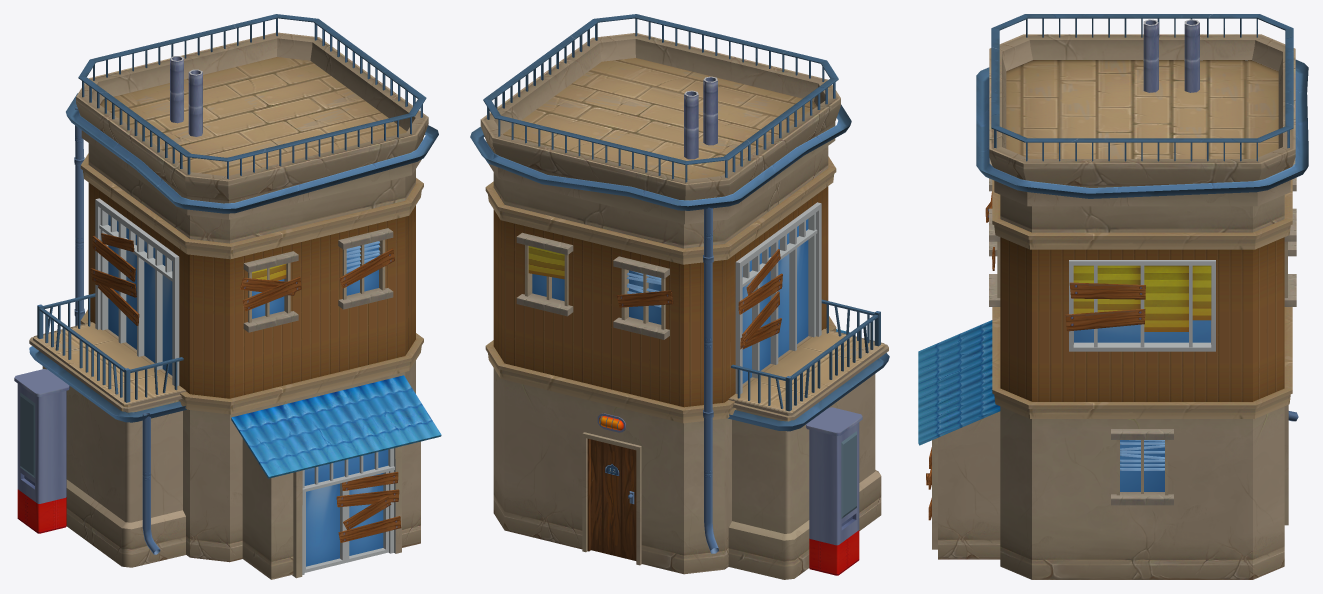
The model's file is Building_02_3_LOD1.fbx.
3 renders of one model, left to right at view 1: azimuth 30°, elevation 25°; view 2: azimuth 150°, elevation 25°; view 3: azimuth 270°, elevation 25°, orthographic. The views are drawn at different scales.
Visible parts, largest first — view 1: polySurface3665; view 2: polySurface3665; view 3: polySurface3665.
Boxes of the visible parts, box(x1,y1,x2,y2) form: polySurface3665: box(14, 14, 441, 579); polySurface3665: box(470, 14, 889, 579); polySurface3665: box(918, 14, 1308, 579).
Size of the model in its own units: 736 by 896 by 673.
